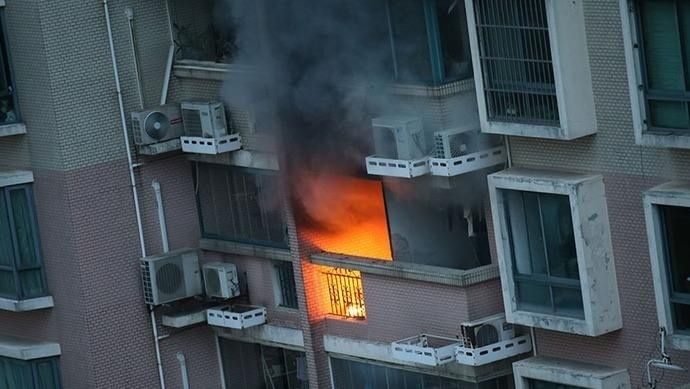fire: (295, 172, 392, 322), (300, 237, 377, 318)
